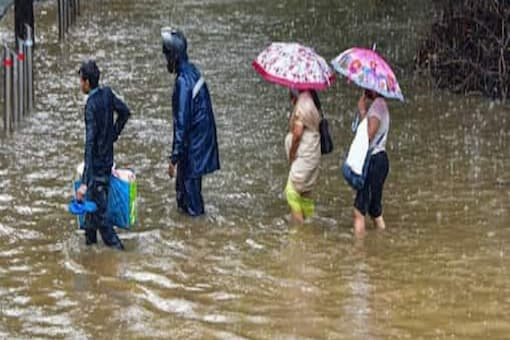person: (349, 95, 394, 234)
